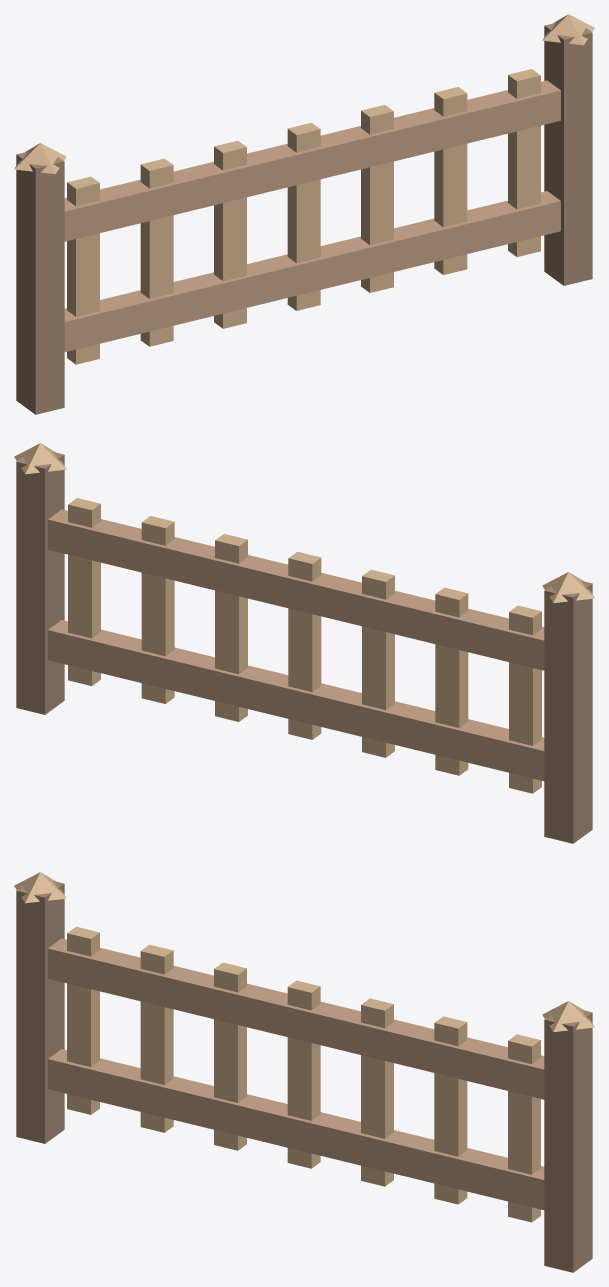
The model's file is fence_section.fbx.
The picture shows the model from 3 angles, top to bottom: view 1: azimuth 30°, elevation 25°; view 2: azimuth 150°, elevation 25°; view 3: azimuth 330°, elevation 25°; orthographic projection.
Visible parts, largest first — view 1: fence_section_geometry; view 2: fence_section_geometry; view 3: fence_section_geometry.
Part boxes in pixels (x1,y1,x2,y2): fence_section_geometry: [14, 14, 594, 414]; fence_section_geometry: [14, 443, 594, 843]; fence_section_geometry: [14, 872, 594, 1272].
Size of the model in its own units: 2.42 by 1.04 by 0.22.
